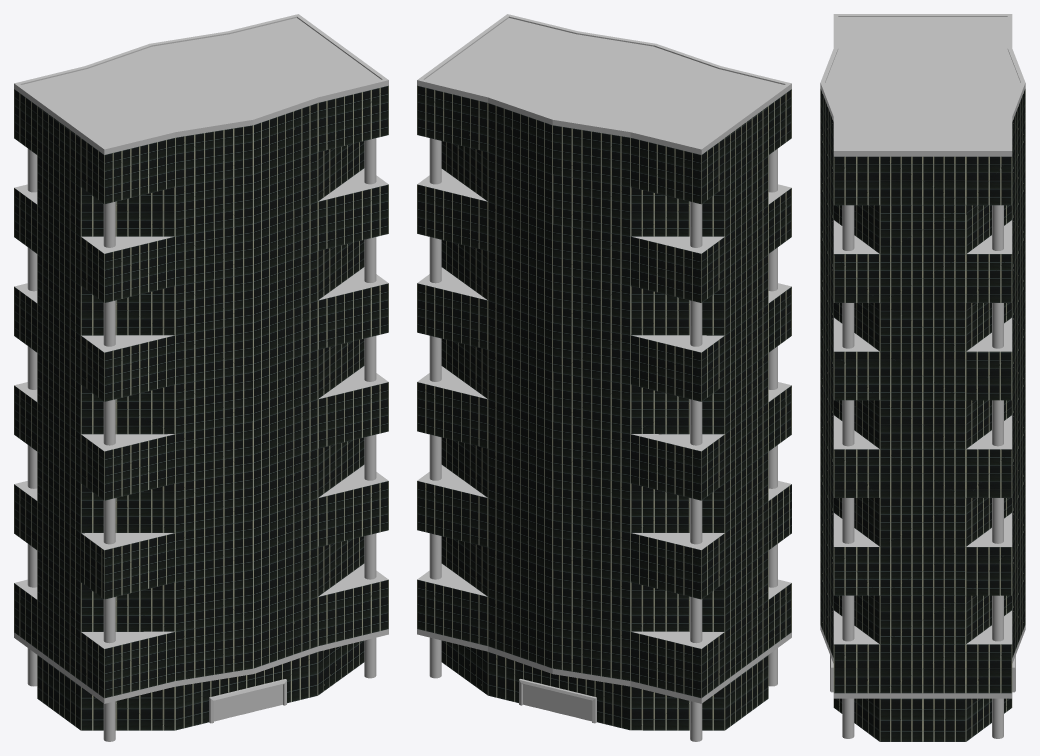
3 views of the same model, side by side, from view 1: azimuth 30°, elevation 25°; view 2: azimuth 150°, elevation 25°; view 3: azimuth 270°, elevation 25° (orthographic).
Parts seen in each view (by area): view 1: BC-073; view 2: BC-073; view 3: BC-073.
Boxes of the visible parts, bbox=[...] form: BC-073: bbox=[14, 14, 388, 741]; BC-073: bbox=[417, 14, 791, 741]; BC-073: bbox=[820, 14, 1025, 741].
Size of what is drawn, in the model's own units: 54.24 by 109 by 34.28.
